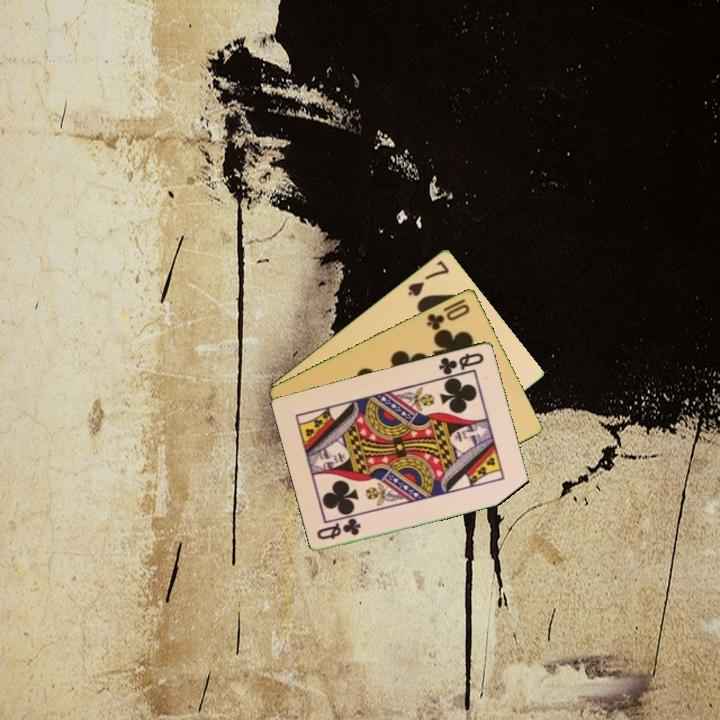10c: (423, 300, 473, 333)
7s: (404, 256, 452, 299)
Qc: (435, 349, 487, 377), (313, 516, 364, 542)
